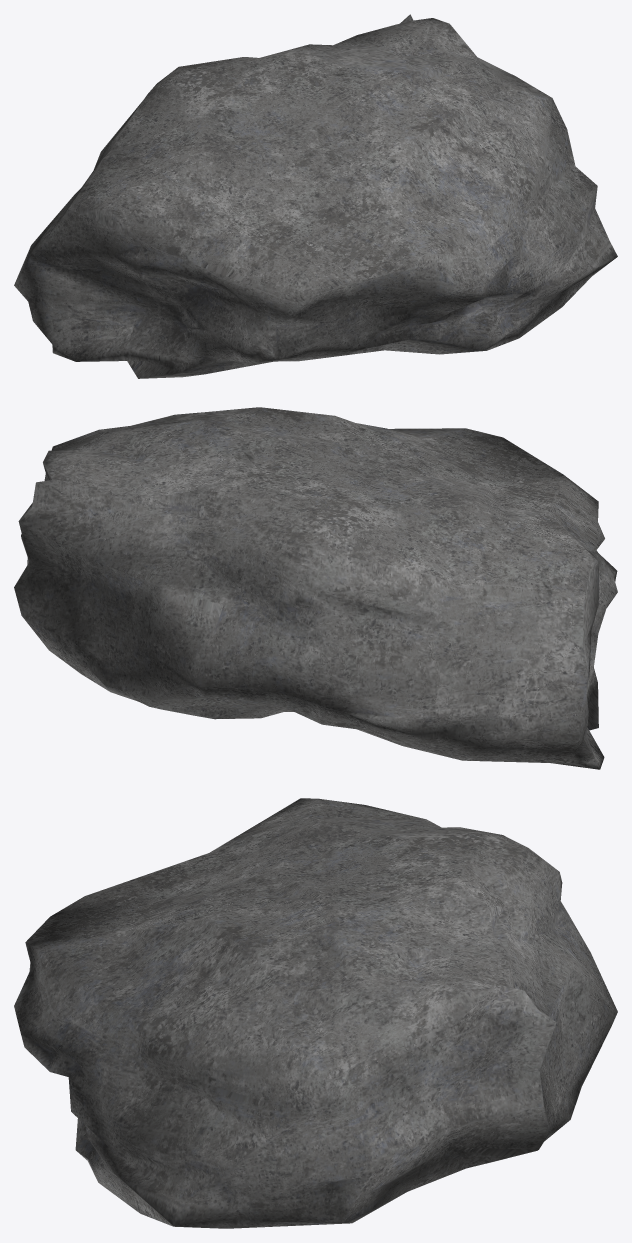
Rendered from SM_Rock_01_LOD_01.FBX.
The picture shows the model from 3 angles, top to bottom: view 1: azimuth 30°, elevation 25°; view 2: azimuth 150°, elevation 25°; view 3: azimuth 270°, elevation 25°; orthographic projection. The views are drawn at different scales.
Visible parts, largest first — view 1: SM_Rock_01_LOD_01; view 2: SM_Rock_01_LOD_01; view 3: SM_Rock_01_LOD_01.
Part boxes in pixels (x1=…): SM_Rock_01_LOD_01: x1=14, y1=14, x2=617, y2=378; SM_Rock_01_LOD_01: x1=14, y1=407, x2=617, y2=769; SM_Rock_01_LOD_01: x1=14, y1=798, x2=617, y2=1228.
Bounding box in the file's own units: 2.44 × 0.9965 × 2.01.
1 material, 1 textured.
